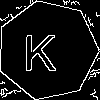K: (22, 25, 58, 71)
